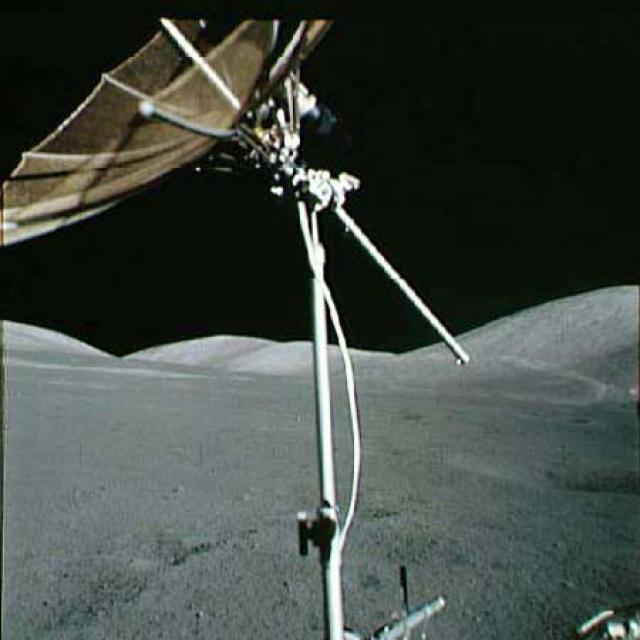artifact: (4, 4, 487, 367), (283, 360, 447, 638)
crater: (466, 444, 638, 506)
